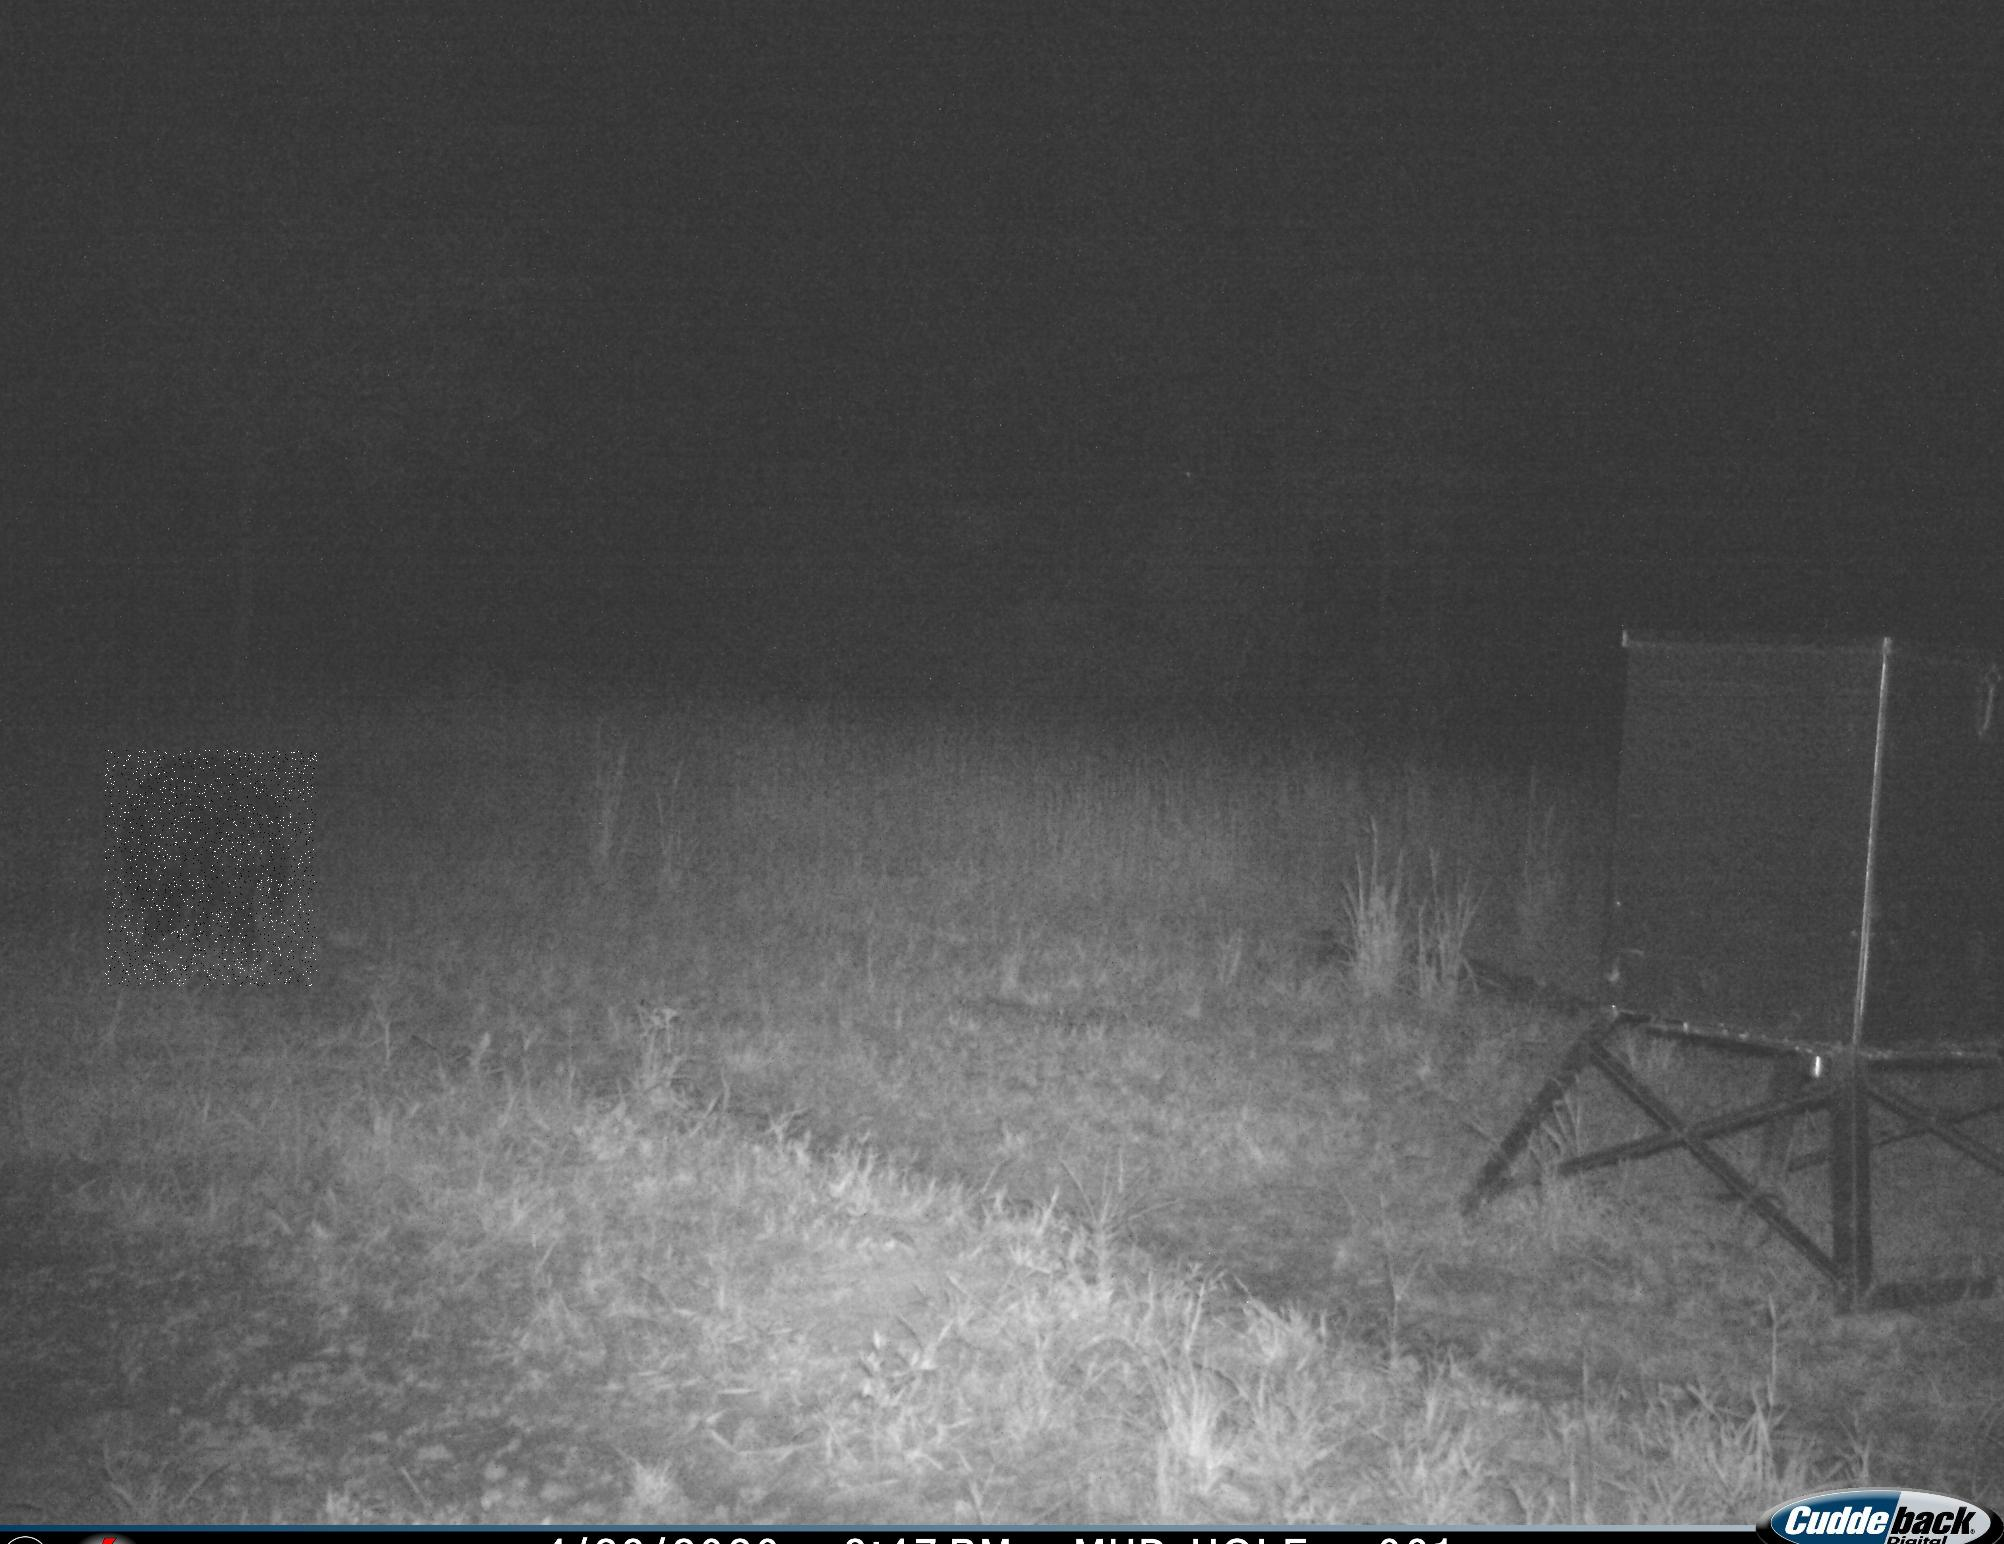Hog: (105, 749, 318, 986)
